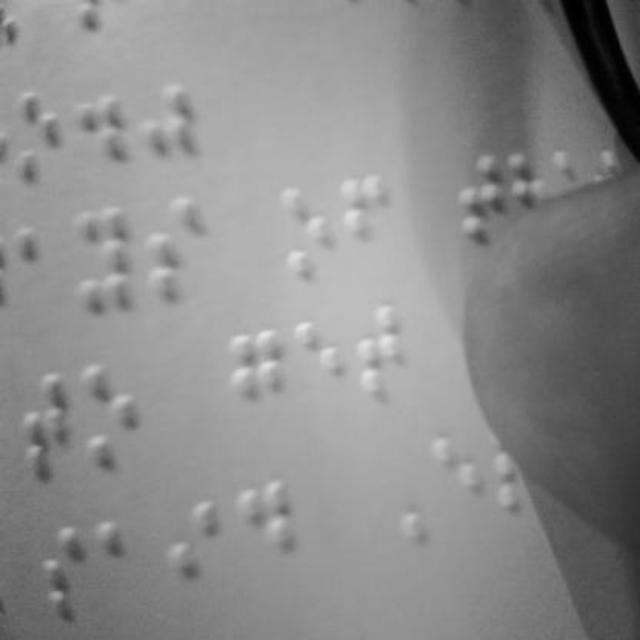braiile: (236, 474, 296, 596), (72, 200, 136, 314), (16, 371, 80, 484), (32, 520, 92, 636), (80, 355, 140, 471), (228, 325, 288, 441), (168, 495, 224, 619), (293, 314, 351, 428), (8, 81, 70, 185), (96, 512, 152, 626), (148, 194, 202, 306), (340, 171, 394, 283), (278, 178, 332, 286), (427, 422, 483, 526), (356, 300, 408, 410), (14, 220, 66, 328), (451, 148, 507, 242)
